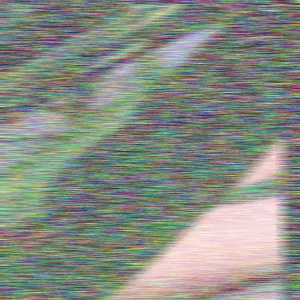Brown_Spot: (7, 170, 141, 263), (116, 90, 193, 158)
